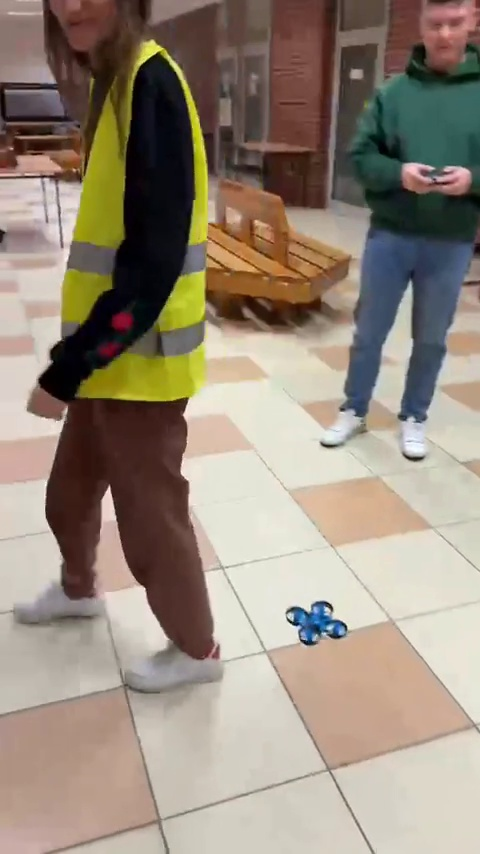drone: (283, 596, 349, 647)
no vest: (337, 2, 479, 472)
vest: (35, 1, 221, 689)
